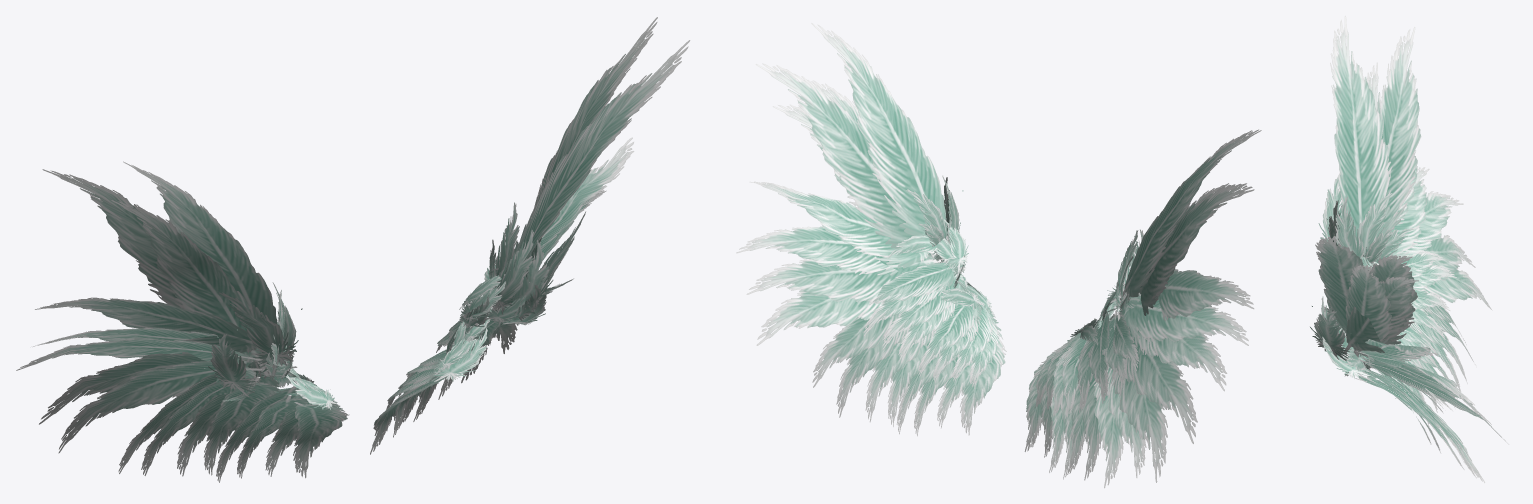
Rendered from anglewing.FBX.
3 views of the same model, side by side, from view 1: azimuth 30°, elevation 25°; view 2: azimuth 150°, elevation 25°; view 3: azimuth 270°, elevation 25° (orthographic). The views are drawn at different scales.
Visible parts, largest first — view 1: anglewing; view 2: anglewing; view 3: anglewing.
Boxes of the visible parts, x1,y1,x2,y2 form: anglewing: [16, 17, 690, 482]; anglewing: [736, 23, 1261, 488]; anglewing: [1310, 15, 1508, 482].
Bounding box in the file's own units: 64.17 × 42.02 × 25.4.
